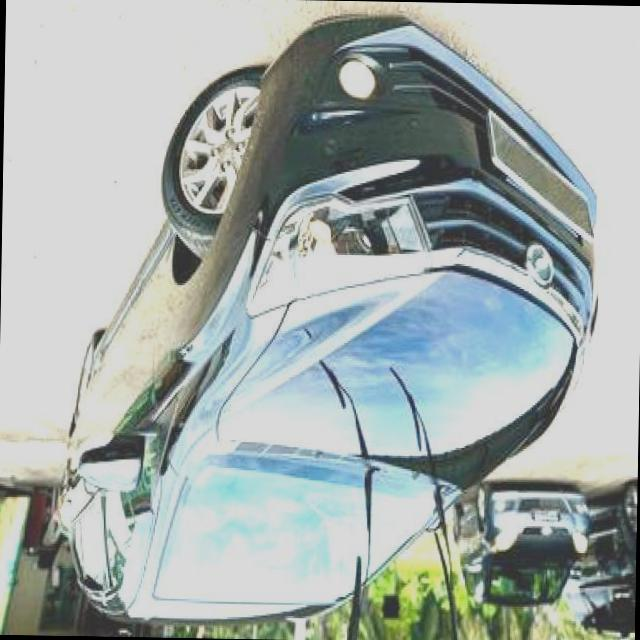PeroduaBezza: (56, 11, 604, 634)
